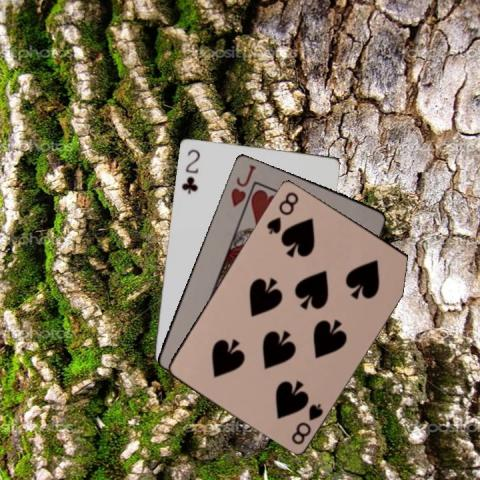2c: (178, 146, 201, 195)
8s: (263, 188, 300, 236), (288, 400, 325, 446)
Jh: (227, 161, 257, 207)
